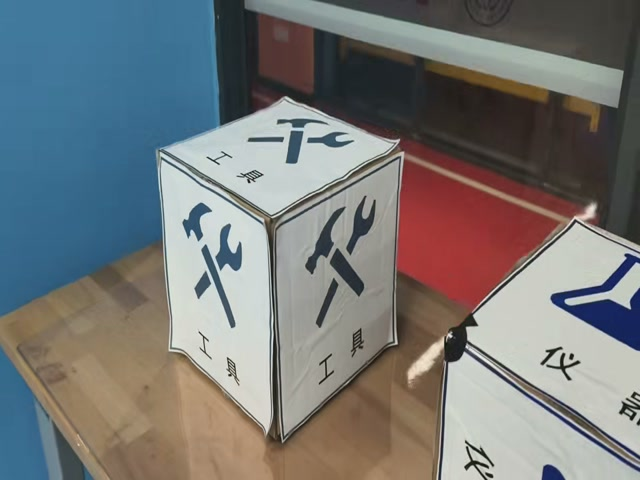Cube_ins: (447, 214, 640, 473)
Cube_tool: (158, 103, 403, 230)
